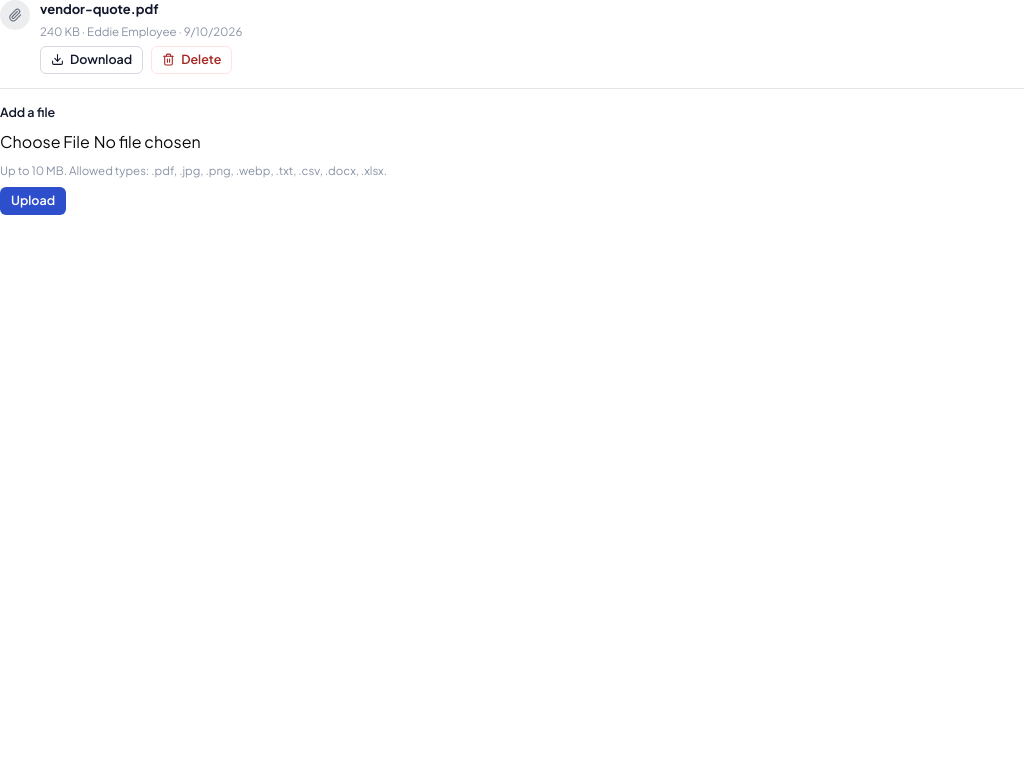
Test case: AttachmentSection › on delete failure, refetches and preserves the attachment rather than assuming success
The image size is (1024, 768).
expect the text "vendor-quote.pdf" is shown: met, box [40,0,158,20]
Click the button "Delete". click: (192, 60)
box: [151,46,232,74]
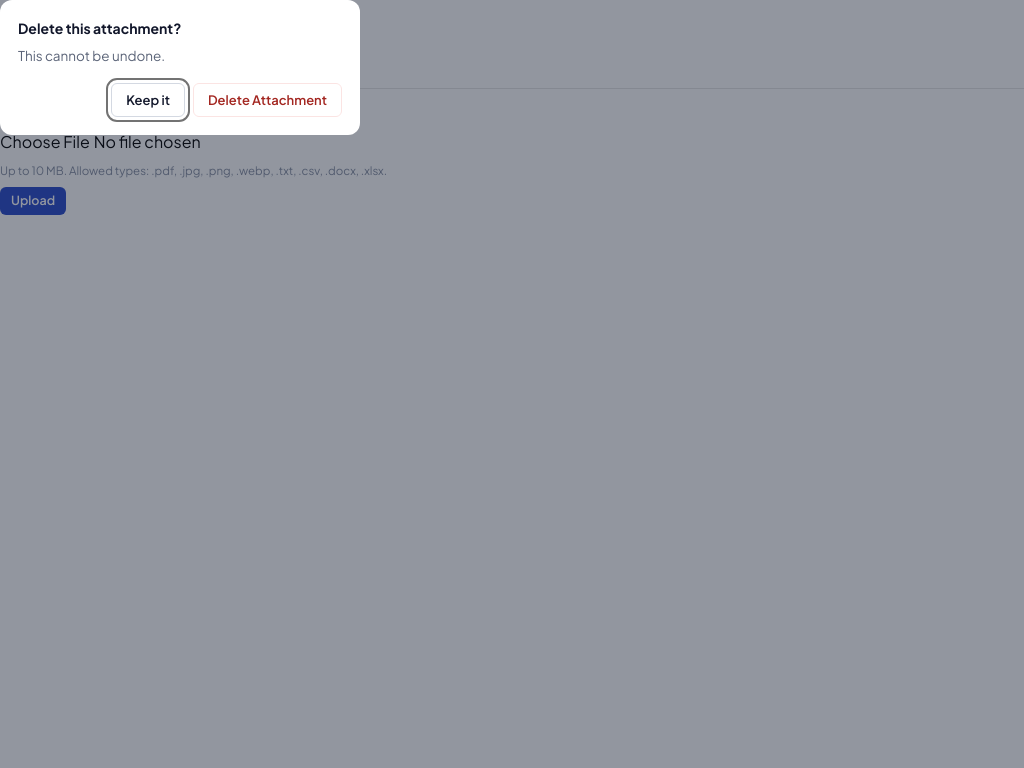
Click the button "Delete Attachment". click: (268, 100)
box: [193,83,342,117]
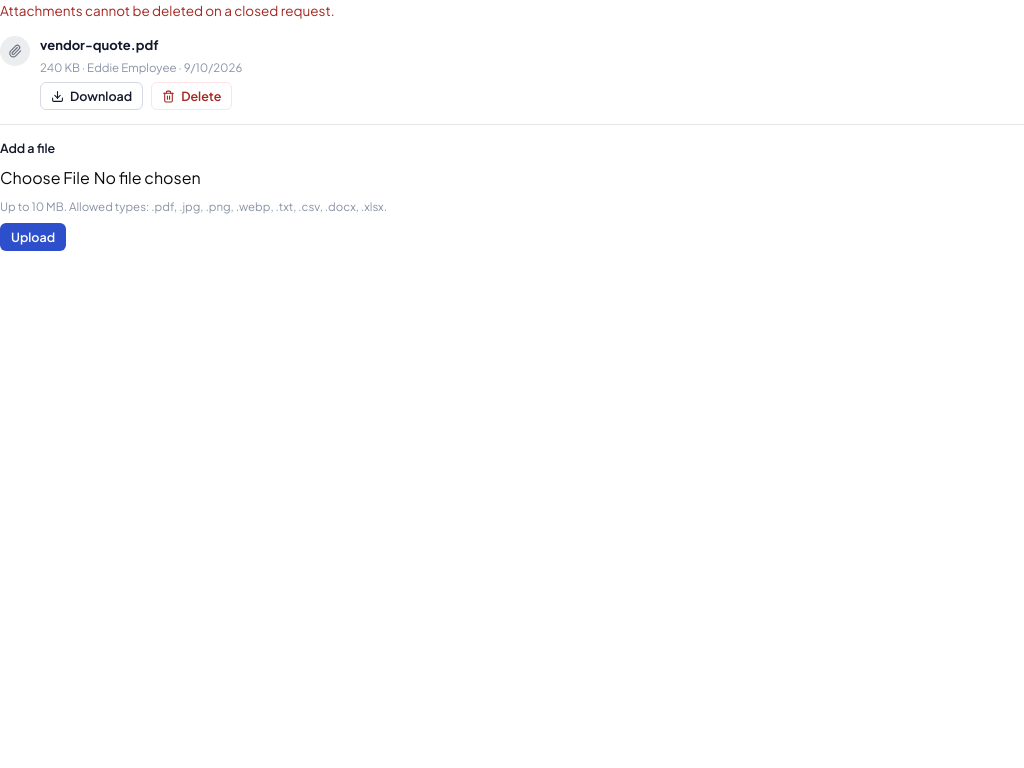
expect the text "vendor-quote.pdf" is shown: met, box [40,36,158,56]
expect the text "Attachments cannot be deleted on a closed request." is shown: met, box [0,2,334,19]
